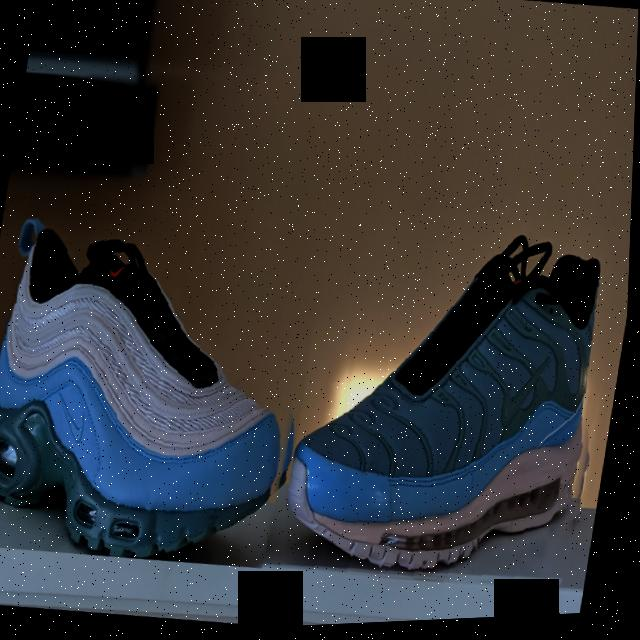shoe: (278, 198, 634, 612), (0, 183, 336, 582)
